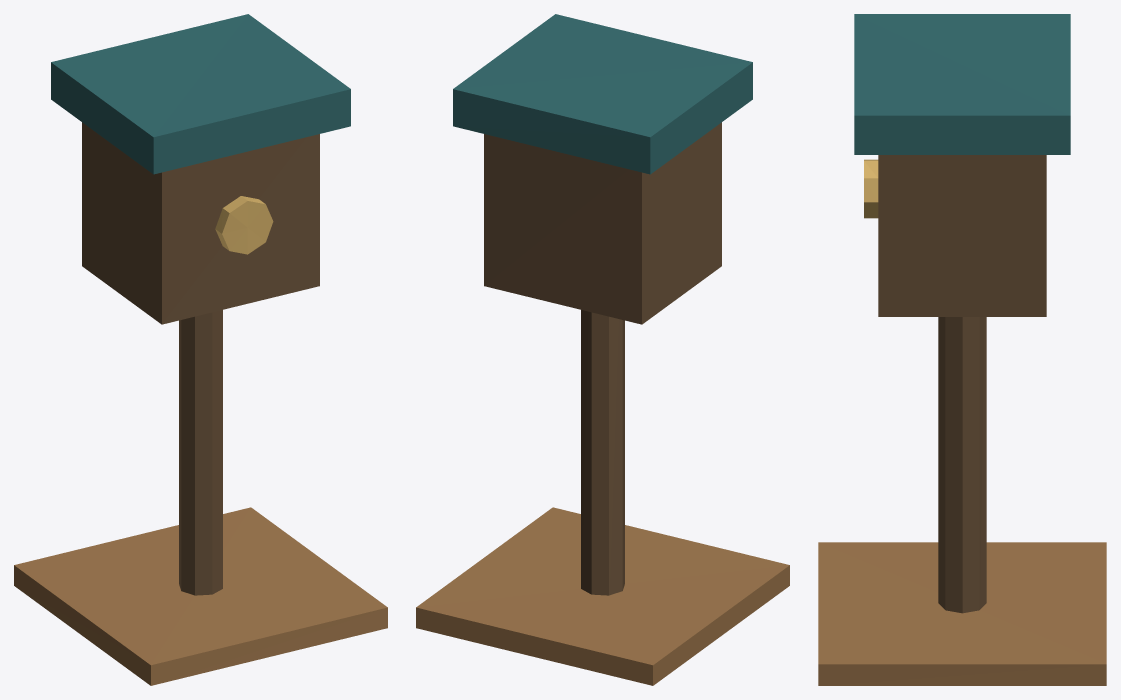
File: birdhouse.source.glb
3 renders of one model, left to right at view 1: azimuth 30°, elevation 25°; view 2: azimuth 150°, elevation 25°; view 3: azimuth 270°, elevation 25°, orthographic. The views are drawn at different scales.
Visible parts, largest first — view 1: birdhouse-base-mesh, birdhouse-house-mesh, birdhouse-roof-mesh, birdhouse-post-mesh, birdhouse-entry-mesh; view 2: birdhouse-base-mesh, birdhouse-house-mesh, birdhouse-roof-mesh, birdhouse-post-mesh; view 3: birdhouse-base-mesh, birdhouse-roof-mesh, birdhouse-house-mesh, birdhouse-post-mesh, birdhouse-entry-mesh.
Boxes of the visible parts, bbox=[...] form: birdhouse-base-mesh: bbox=[14, 507, 387, 685]; birdhouse-house-mesh: bbox=[82, 122, 319, 324]; birdhouse-roof-mesh: bbox=[51, 14, 350, 174]; birdhouse-post-mesh: bbox=[179, 310, 222, 595]; birdhouse-entry-mesh: bbox=[215, 196, 273, 254]; birdhouse-base-mesh: bbox=[416, 507, 789, 685]; birdhouse-house-mesh: bbox=[484, 122, 721, 324]; birdhouse-roof-mesh: bbox=[453, 14, 752, 174]; birdhouse-post-mesh: bbox=[581, 310, 624, 595]; birdhouse-base-mesh: bbox=[818, 542, 1106, 685]; birdhouse-roof-mesh: bbox=[854, 14, 1070, 154]; birdhouse-house-mesh: bbox=[878, 155, 1046, 316]; birdhouse-post-mesh: bbox=[938, 317, 986, 613]; birdhouse-entry-mesh: bbox=[864, 159, 878, 218].
Size of the model in its own units: 1.2 by 2.57 by 1.2.
